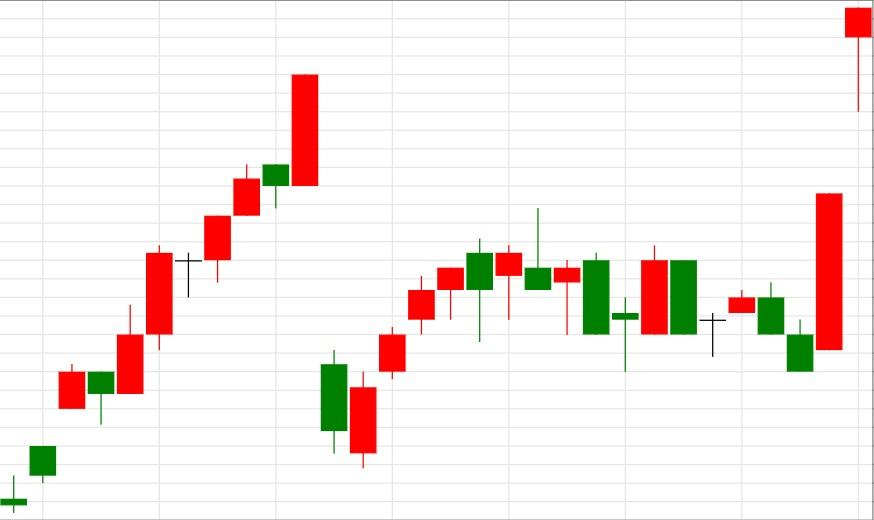three_white_soldiers_rise: (292, 73, 436, 469)
